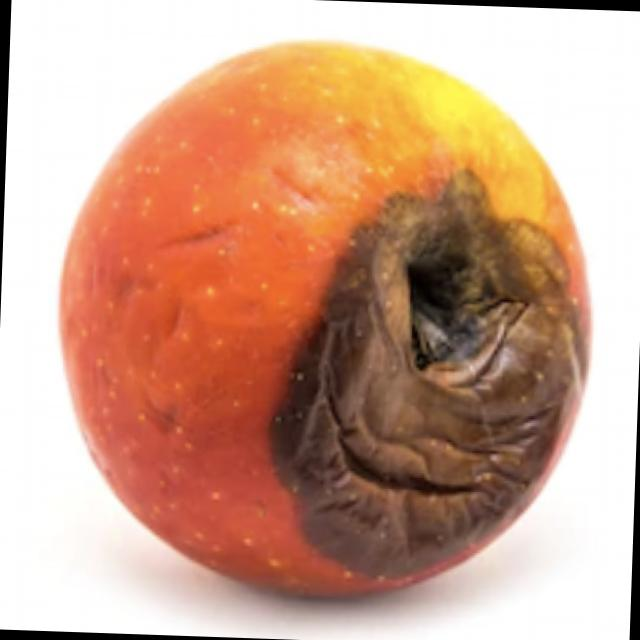rotten_apple: (52, 37, 599, 610)
